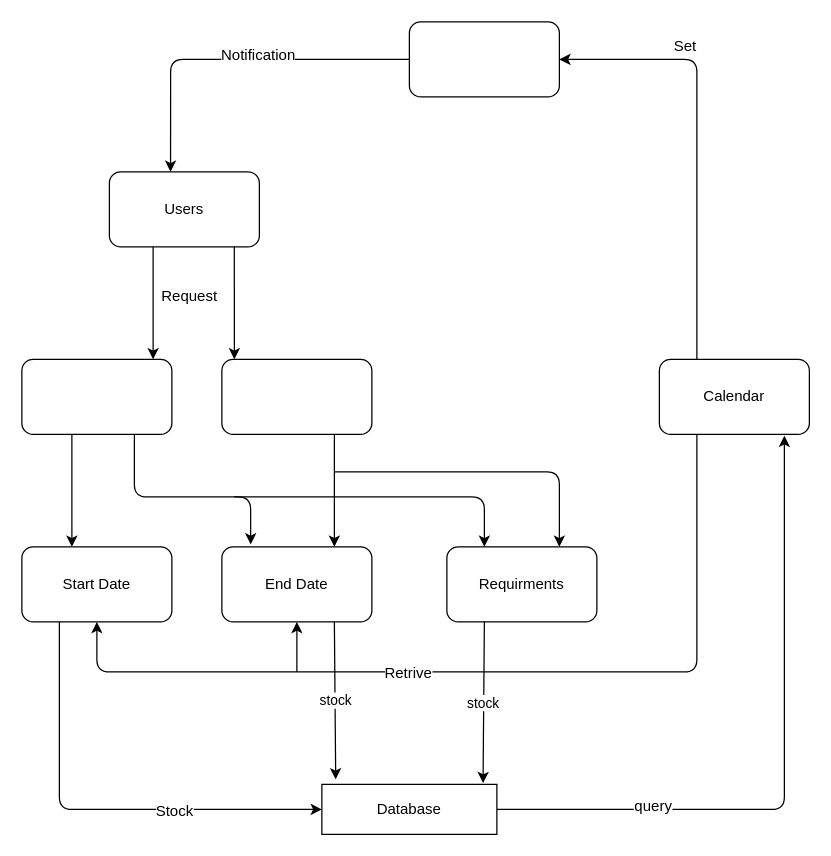
This 831x856 diagram has some shape labels left out. The shapes that lost their labels are listed below. From the top down, each one's centre as x and y in pixels, then its label:
(x=483, y=59): Alert
(x=96, y=396): Add Events
(x=296, y=396): Add Todos
